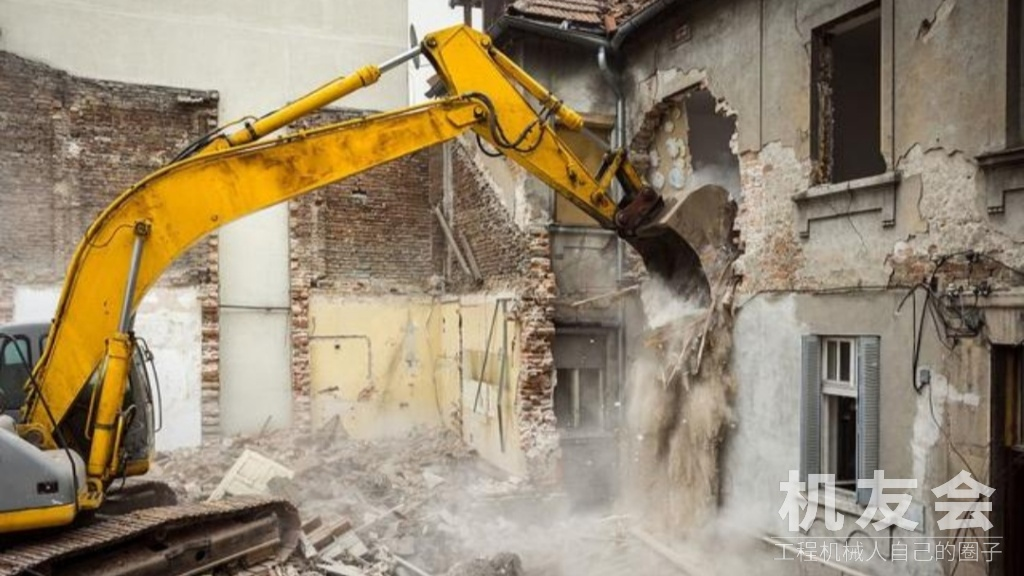excavator: (1, 28, 751, 576)
